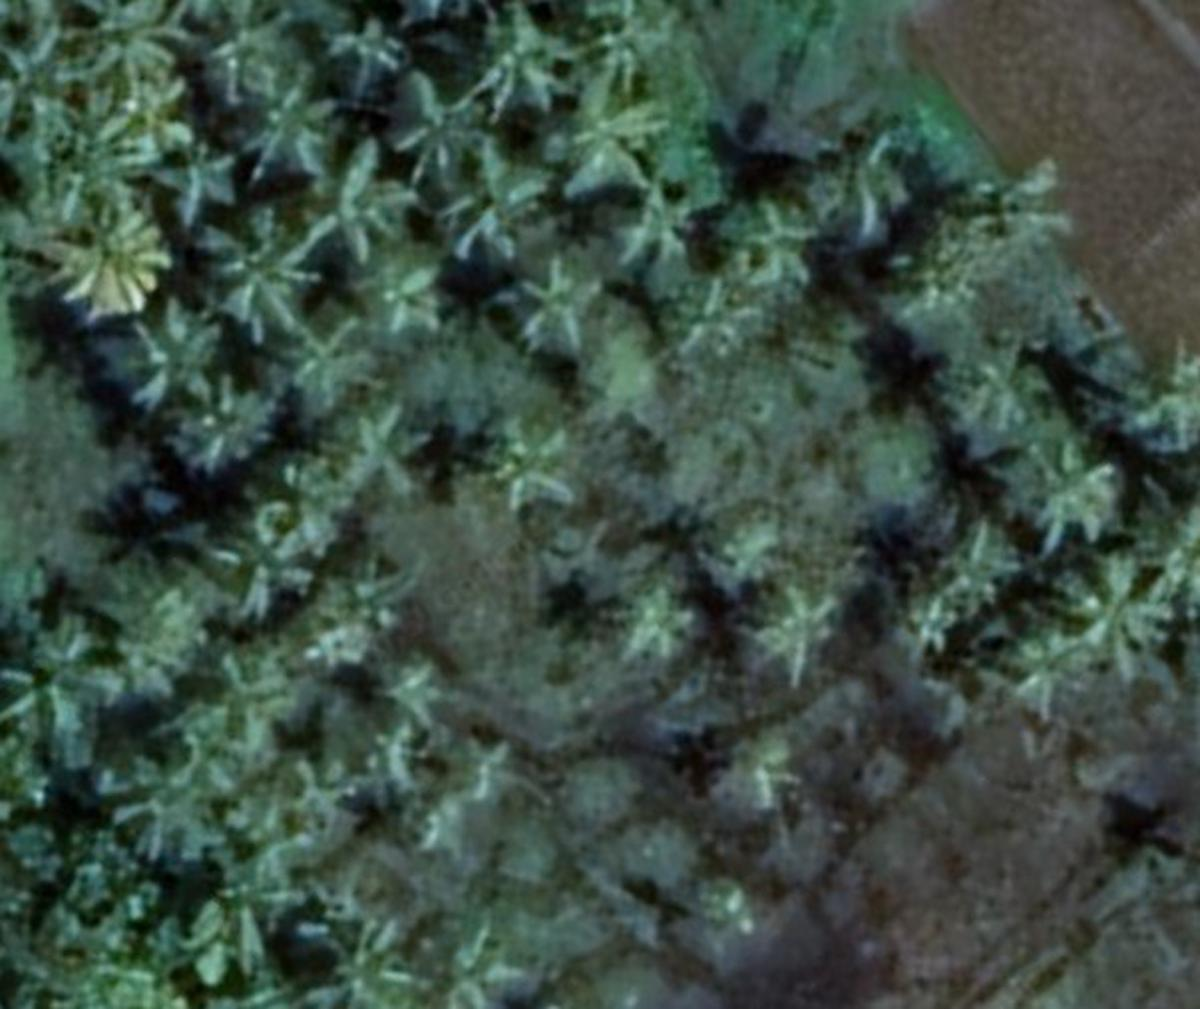coconut: (433, 145, 565, 286), (195, 202, 318, 342), (453, 13, 589, 133), (41, 201, 173, 320), (1, 616, 117, 748), (292, 135, 417, 246), (332, 402, 453, 515), (109, 296, 236, 400), (805, 129, 923, 240), (748, 591, 861, 700), (597, 167, 722, 264), (1066, 555, 1174, 666), (1016, 445, 1118, 563), (236, 65, 340, 177), (200, 517, 308, 622), (706, 718, 815, 815), (306, 915, 417, 1009), (734, 193, 835, 296), (967, 342, 1066, 447), (380, 69, 471, 183), (921, 511, 1028, 605), (519, 248, 614, 354), (473, 413, 577, 509), (1006, 618, 1102, 720), (171, 388, 286, 473), (423, 728, 539, 811), (656, 274, 770, 358), (358, 258, 453, 358), (427, 917, 527, 1007), (139, 135, 242, 220), (314, 15, 413, 101), (610, 579, 700, 668), (577, 3, 672, 87), (366, 656, 451, 736)
